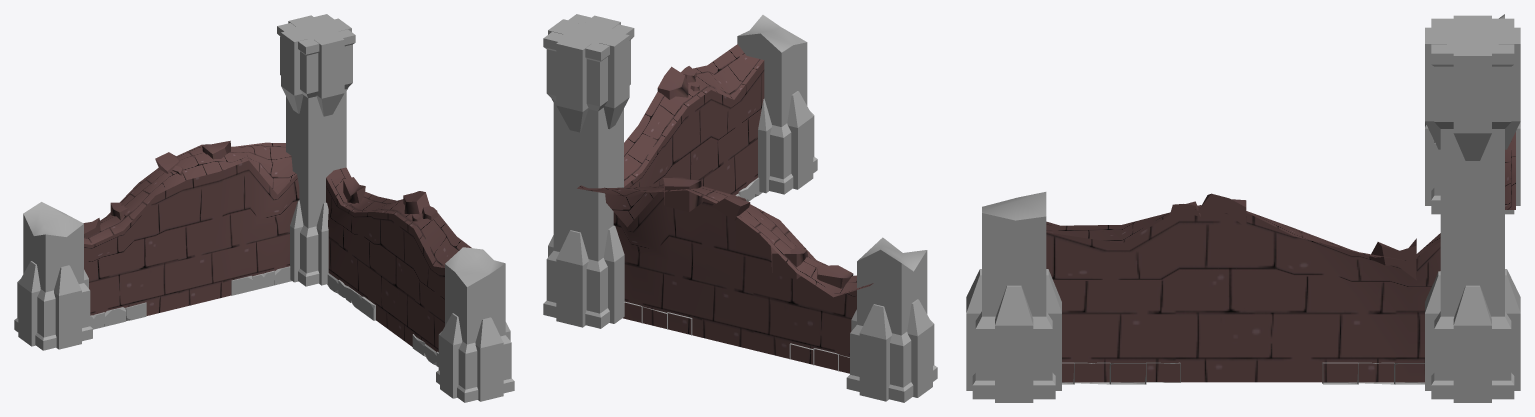
The model's file is Garden 1.fbx.
3 renders of one model, left to right at view 1: azimuth 30°, elevation 25°; view 2: azimuth 150°, elevation 25°; view 3: azimuth 270°, elevation 25°, orthographic. The views are drawn at different scales.
Parts seen in each view (by area): view 1: Garden; view 2: Garden; view 3: Garden.
Part boxes in pixels (bbox=[...]): Garden: bbox=[14, 14, 514, 402]; Garden: bbox=[543, 14, 937, 402]; Garden: bbox=[966, 14, 1520, 402].
Bounding box in the file's own units: 1515 × 1100 × 1574.
3 materials, 1 textured.
